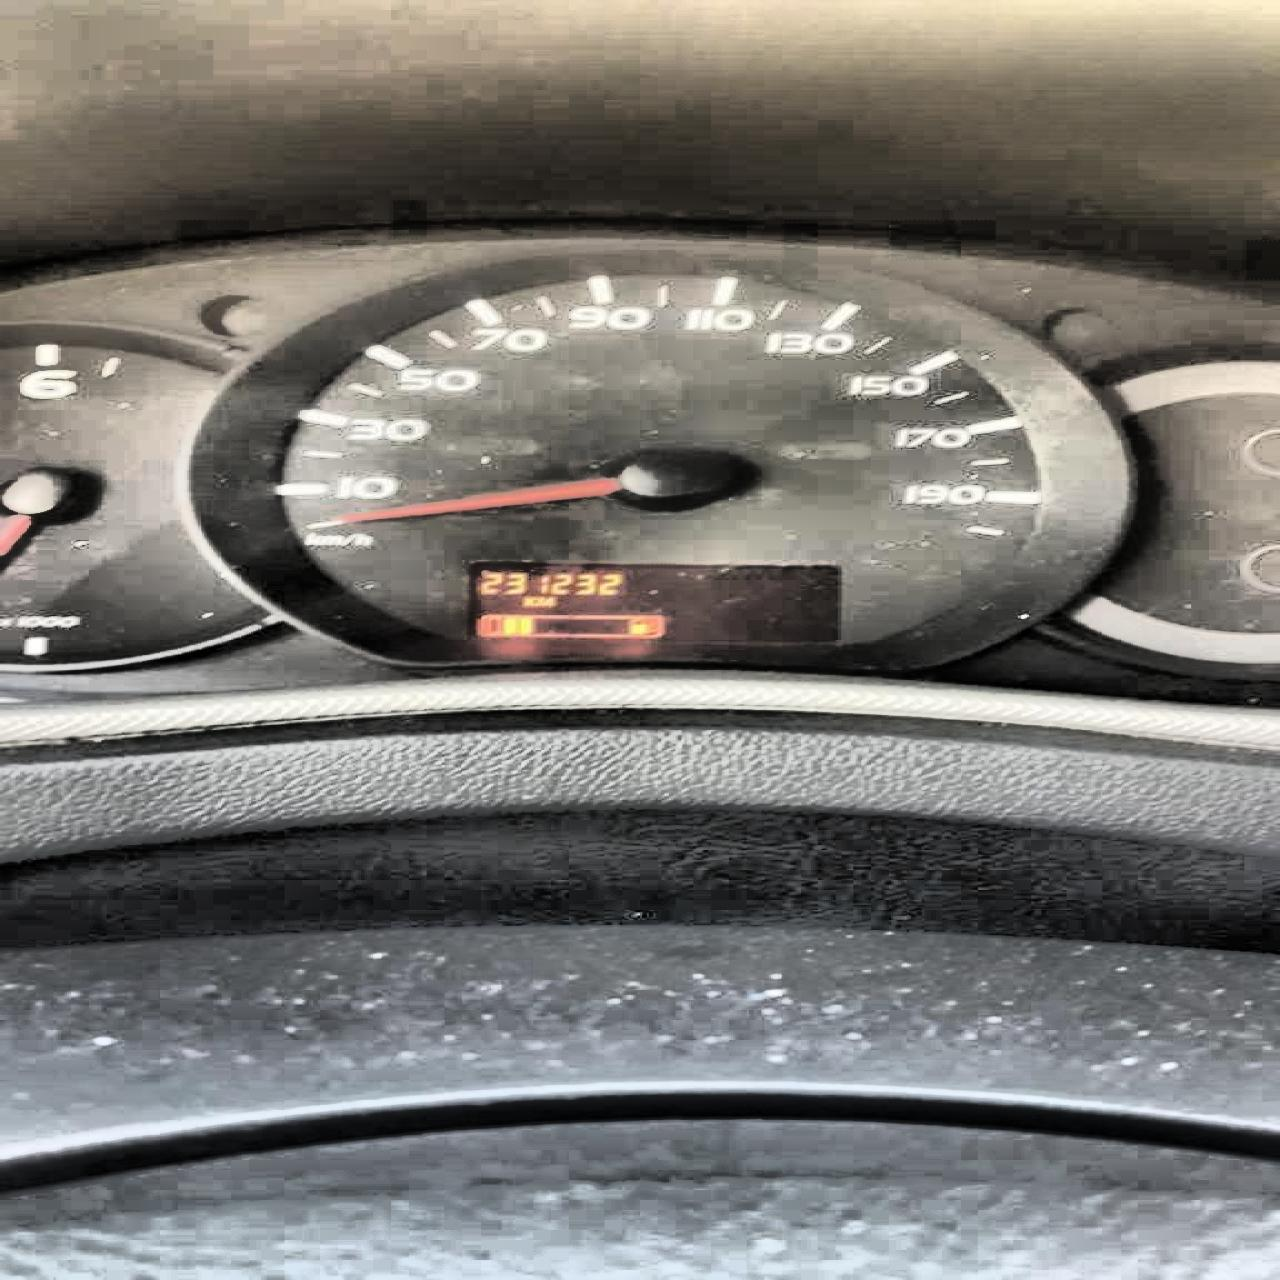1: (533, 572, 549, 593)
2: (476, 570, 501, 594), (595, 571, 620, 594), (549, 571, 571, 594)
3: (502, 571, 526, 595), (573, 573, 595, 595)
X: (536, 595, 556, 606), (519, 595, 533, 606)
odometer: (459, 557, 844, 647)
